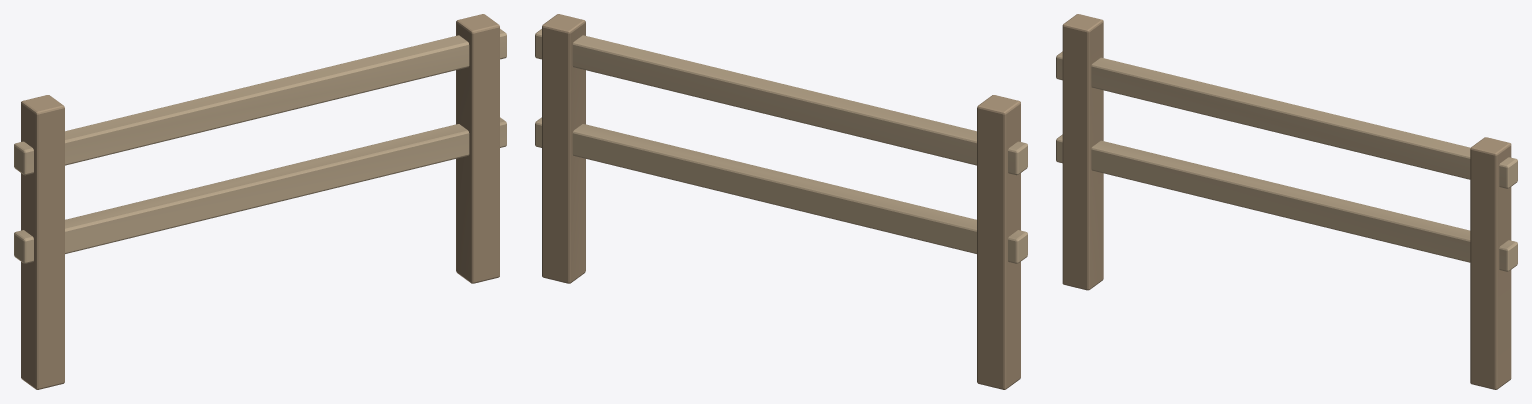
File: fence.glb
The picture shows the model from 3 angles, left to right: view 1: azimuth 30°, elevation 25°; view 2: azimuth 150°, elevation 25°; view 3: azimuth 330°, elevation 25°; orthographic projection. The views are drawn at different scales.
Parts seen in each view (by area): view 1: post; view 2: post; view 3: post.
Part boxes in pixels (x1=…): post: x1=14, y1=14, x2=506, y2=389; post: x1=535, y1=14, x2=1027, y2=389; post: x1=1056, y1=14, x2=1517, y2=389.
Size of the model in its own units: 2 by 1.1 by 0.12.
